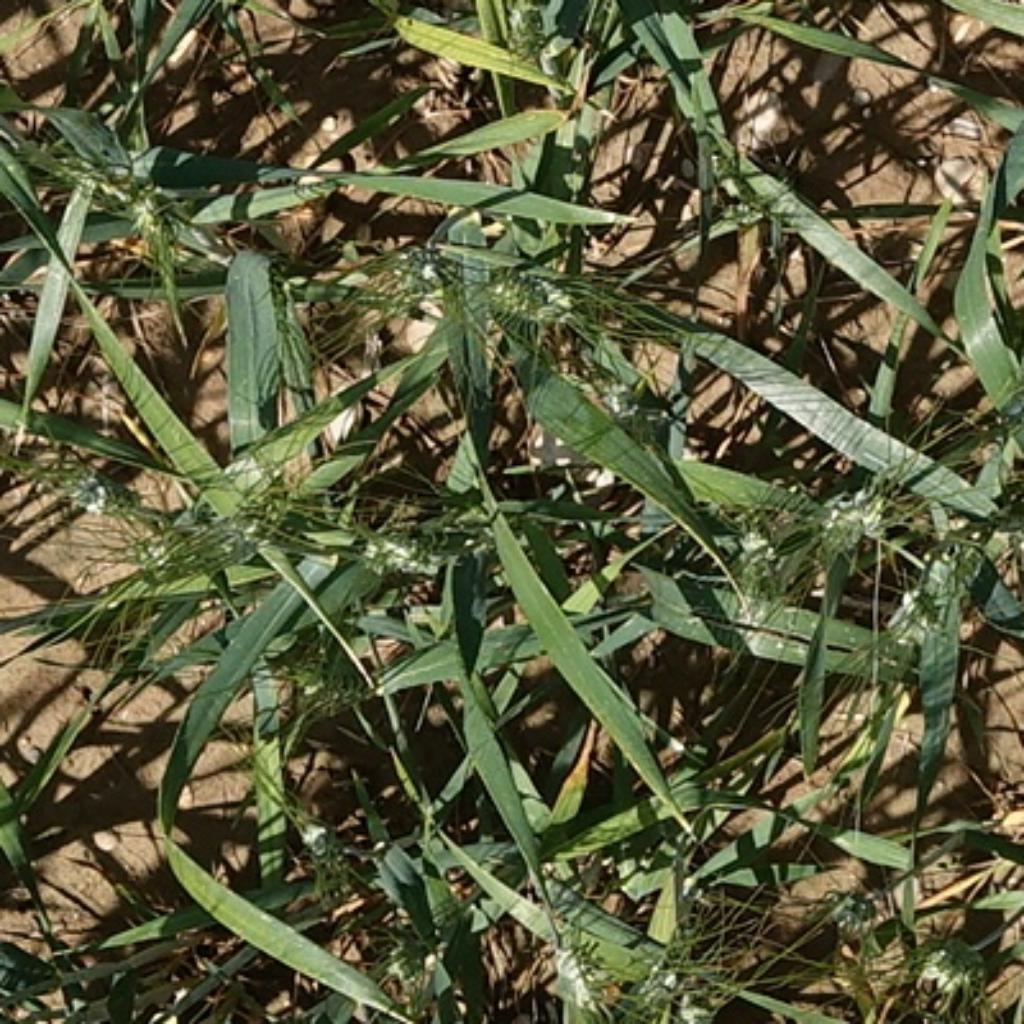0-0: (460, 253, 593, 335), (271, 640, 381, 737), (29, 439, 142, 526), (348, 514, 460, 591), (637, 936, 732, 1018), (225, 471, 307, 563), (796, 473, 890, 552), (543, 931, 624, 1018), (376, 232, 453, 314), (885, 573, 957, 655), (906, 924, 983, 998), (591, 371, 668, 445), (115, 186, 192, 248), (293, 810, 359, 881), (824, 872, 888, 939), (497, 0, 566, 60)
